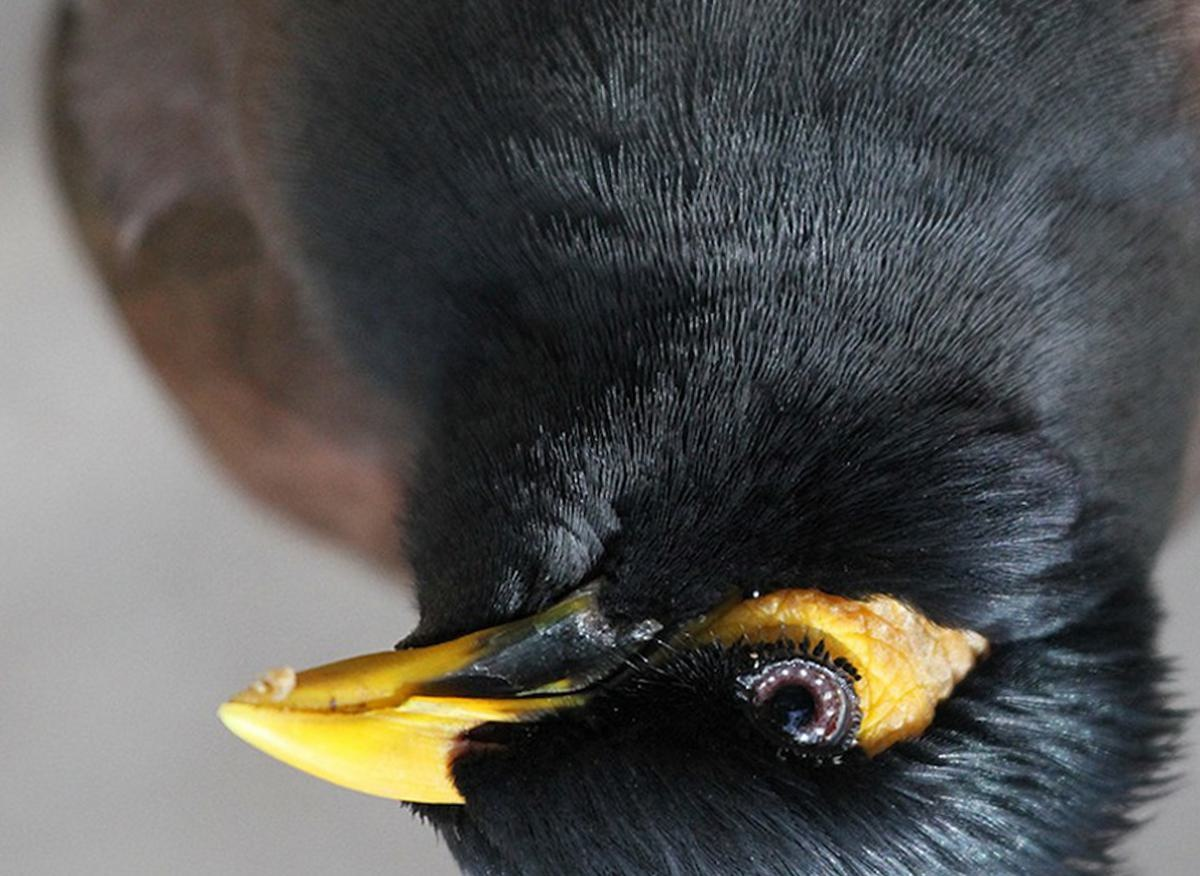myna: (223, 106, 1071, 873)
